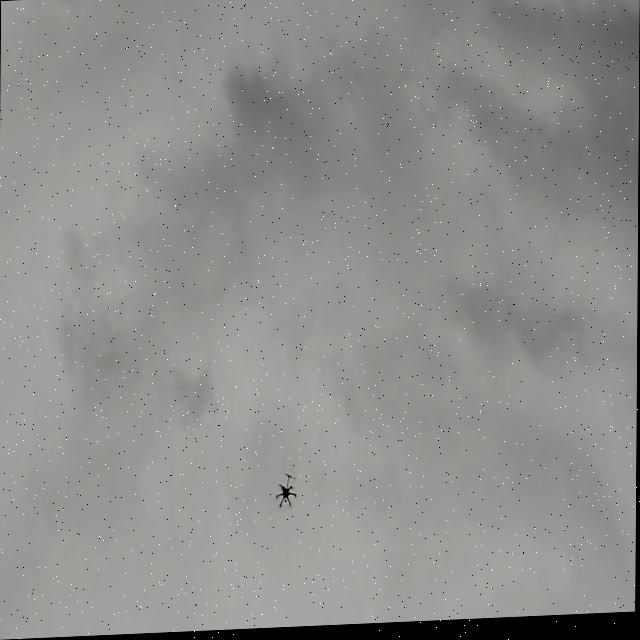drone: (275, 473, 299, 514)
